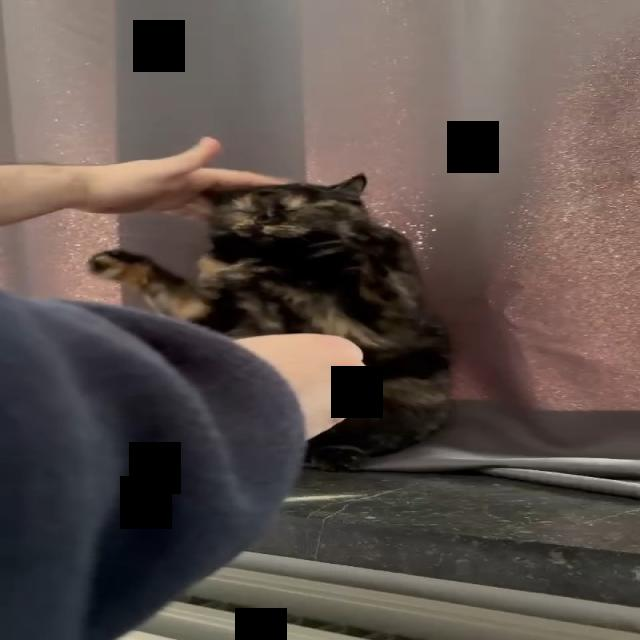authorized: (87, 171, 454, 472)
